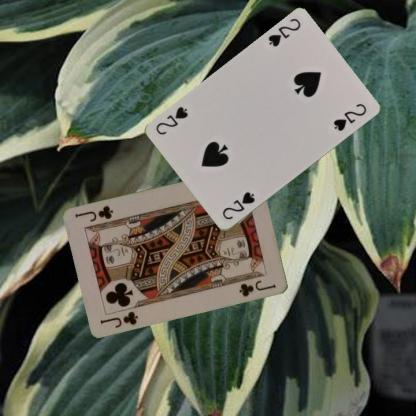2s: (219, 189, 256, 222), (265, 16, 302, 48)
Jc: (98, 303, 140, 329)
